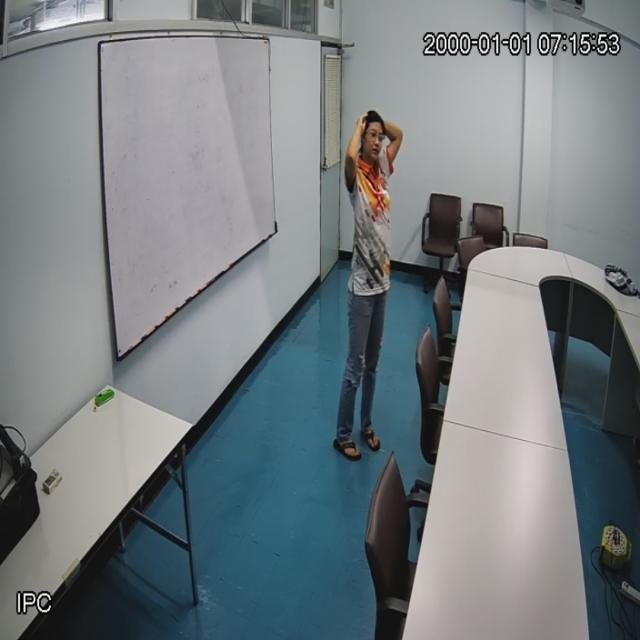normal: (335, 111, 403, 451)
